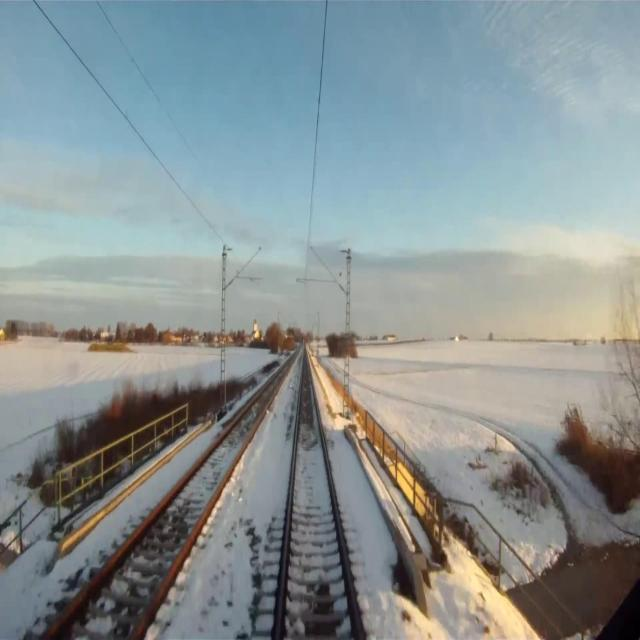rail-track: (48, 360, 291, 639), (280, 354, 358, 639)
